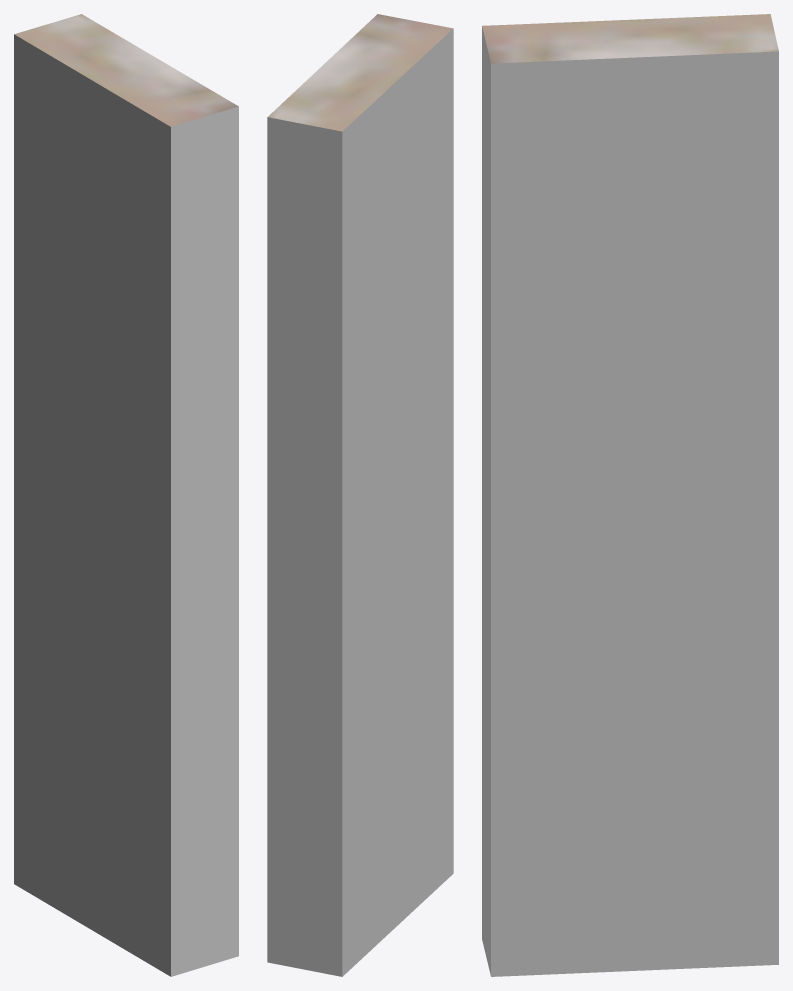
Rendered from DEBW_0010007THWW.gltf.
3 views of the same model, side by side, from view 1: azimuth 30°, elevation 25°; view 2: azimuth 150°, elevation 25°; view 3: azimuth 270°, elevation 25° (orthographic). The views are drawn at different scales.
Parts seen in each view (by area): view 1: Z_UP; view 2: Z_UP; view 3: Z_UP.
Boxes of the visible parts, x1=… form: Z_UP: x1=14, y1=14, x2=238, y2=976; Z_UP: x1=267, y1=14, x2=453, y2=976; Z_UP: x1=482, y1=14, x2=778, y2=976.
Bounding box in the file's own units: 1.55 × 13.3 × 3.92.
2 materials, 1 textured.
